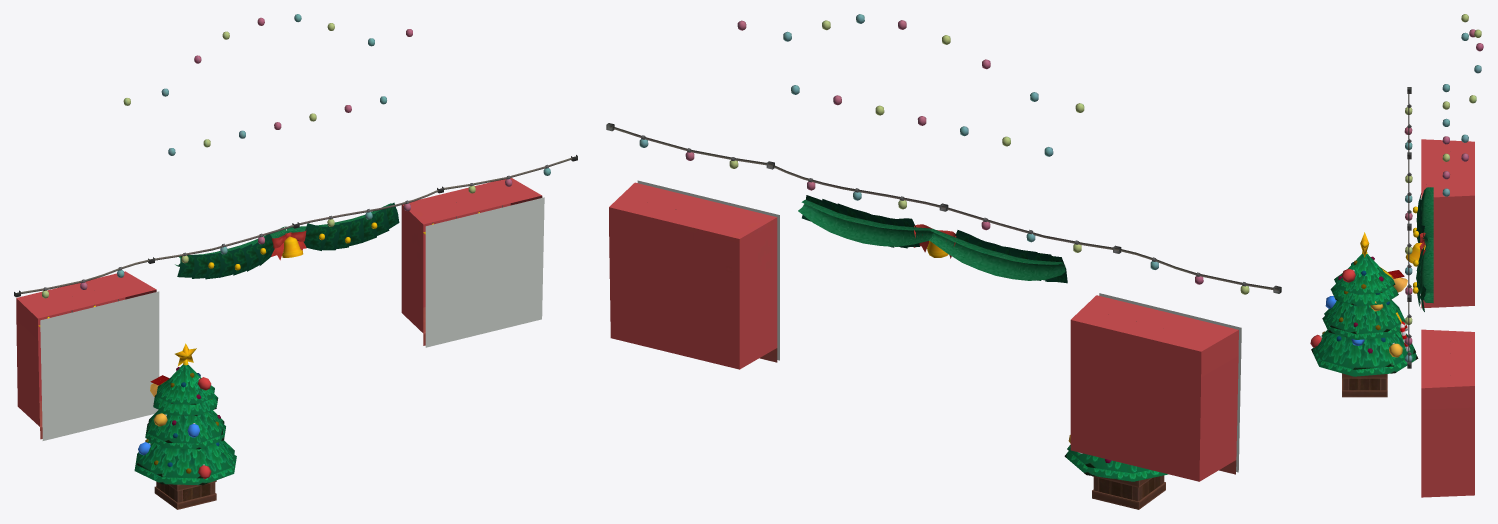
File: shop-deco-christmas.glb
The picture shows the model from 3 angles, left to right: view 1: azimuth 30°, elevation 25°; view 2: azimuth 150°, elevation 25°; view 3: azimuth 270°, elevation 25°; orthographic projection. The views are drawn at different scales.
Visible parts, largest first — view 1: StrcMarketA02ChristmasDeco_node2, StrcMarketA02ChristmasDeco_node1, StrcMarketA02ChristmasDeco_node3, StrcMarketA02ChristmasDeco_node4, StrcMarketA02ChristmasDeco_node5; view 2: StrcMarketA02ChristmasDeco_node1, StrcMarketA02ChristmasDeco_node3, StrcMarketA02ChristmasDeco_node5, StrcMarketA02ChristmasDeco_node4, StrcMarketA02ChristmasDeco_node2; view 3: StrcMarketA02ChristmasDeco_node1, StrcMarketA02ChristmasDeco_node3, StrcMarketA02ChristmasDeco_node5, StrcMarketA02ChristmasDeco_node4.
Boxes of the visible parts, x1,y1,x2,y2 form: StrcMarketA02ChristmasDeco_node2: (40,197,544,440); StrcMarketA02ChristmasDeco_node1: (14,155,577,439); StrcMarketA02ChristmasDeco_node3: (134,343,236,509); StrcMarketA02ChristmasDeco_node4: (177,202,399,279); StrcMarketA02ChristmasDeco_node5: (42,14,550,473); StrcMarketA02ChristmasDeco_node1: (606,123,1281,481); StrcMarketA02ChristmasDeco_node3: (1064,435,1167,509); StrcMarketA02ChristmasDeco_node5: (639,14,1249,463); StrcMarketA02ChristmasDeco_node4: (802,195,1067,283); StrcMarketA02ChristmasDeco_node2: (637,180,1241,472); StrcMarketA02ChristmasDeco_node1: (1405,87,1474,497); StrcMarketA02ChristmasDeco_node3: (1310,232,1418,397); StrcMarketA02ChristmasDeco_node5: (1322,14,1483,362); StrcMarketA02ChristmasDeco_node4: (1416,193,1426,311).
Bounding box in the file's own units: 54.82 × 37.74 × 14.46.
5 materials, 4 textured.
